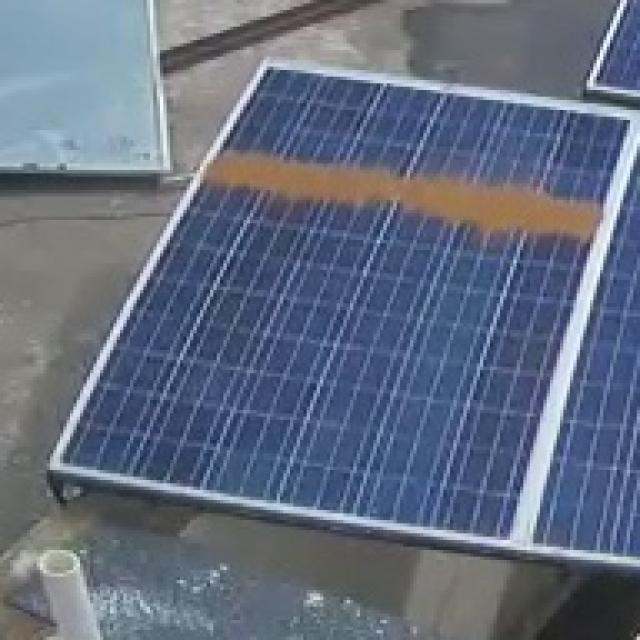Dusty: (205, 139, 614, 250)
